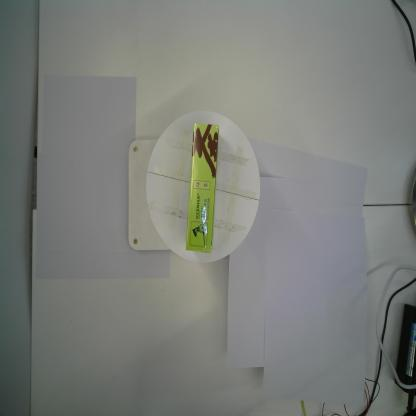Instant Drink: (185, 122, 219, 253)
